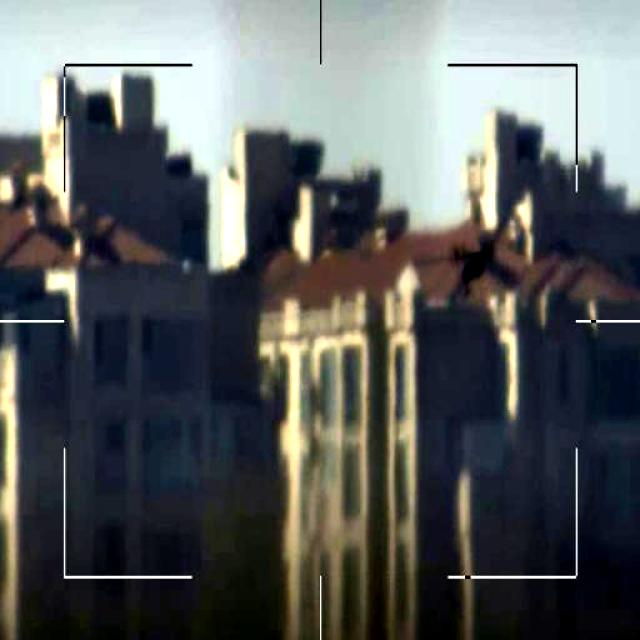bird: (444, 221, 496, 296)
